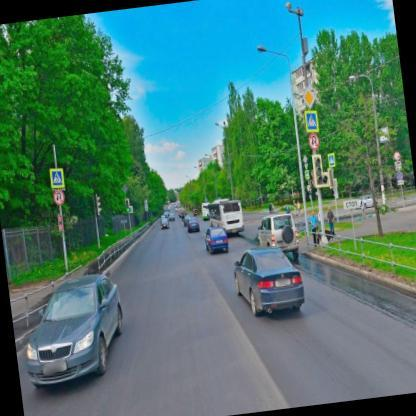off traffic light: (312, 153, 330, 188), (95, 193, 102, 216)
road_sign: (50, 168, 64, 189), (305, 111, 318, 132), (343, 199, 364, 210), (308, 132, 320, 151), (53, 188, 65, 206), (304, 89, 315, 107), (327, 153, 336, 167)
